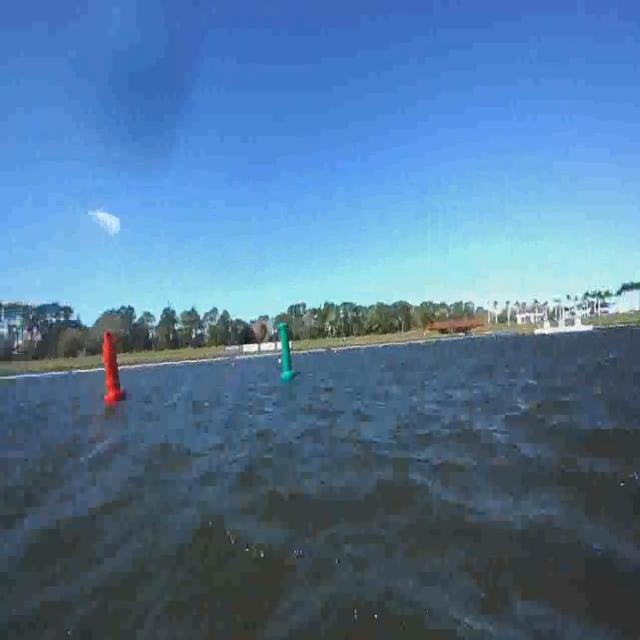green-column-buoy: (278, 321, 296, 379)
red-column-buoy: (102, 331, 126, 405)
